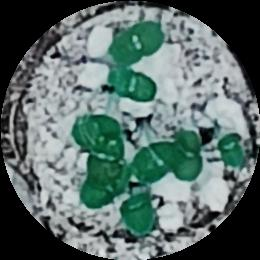Basil: (112, 21, 160, 65), (81, 164, 125, 209), (127, 143, 170, 183), (107, 66, 157, 99), (92, 133, 123, 183), (74, 111, 119, 144), (124, 192, 155, 234), (177, 131, 202, 183), (222, 135, 241, 162)
